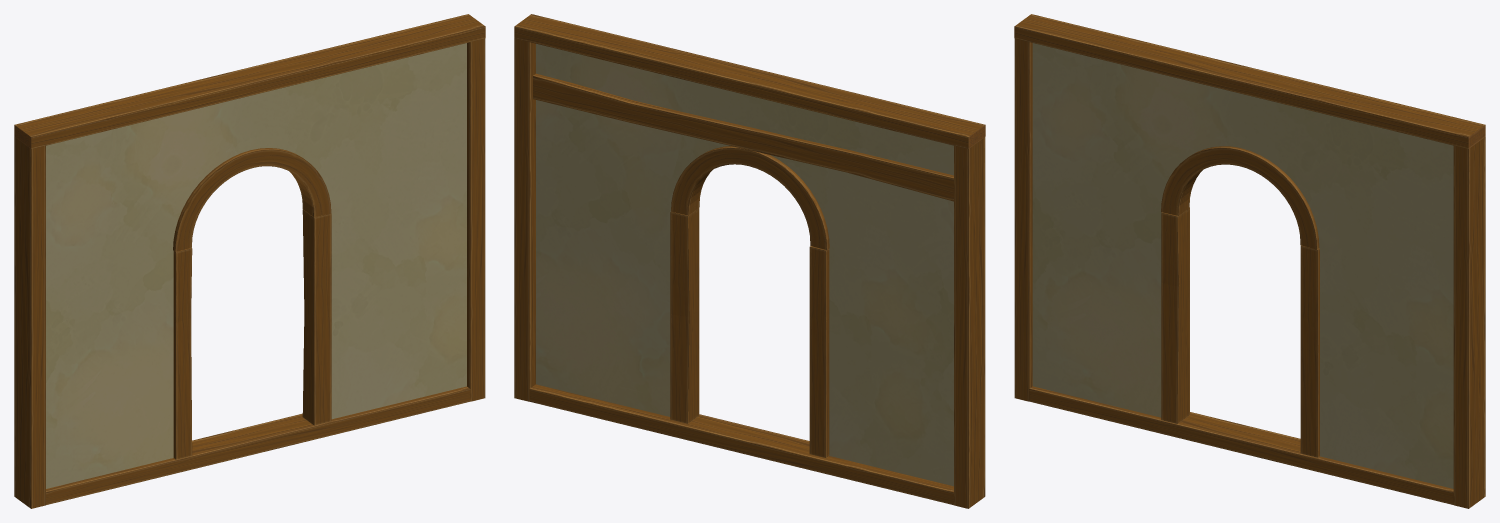
The model's file is SM_House_Wall_5x4_Interior_Door_D_01.fbx.
3 renders of one model, left to right at view 1: azimuth 30°, elevation 25°; view 2: azimuth 150°, elevation 25°; view 3: azimuth 330°, elevation 25°, orthographic.
Parts seen in each view (by area): view 1: SM_House_Wall_5x4_Interior_Door_D_01; view 2: SM_House_Wall_5x4_Interior_Door_D_01; view 3: SM_House_Wall_5x4_Interior_Door_D_01.
Boxes of the visible parts, box(x1,y1,x2,y2) form: SM_House_Wall_5x4_Interior_Door_D_01: box(14, 14, 485, 508); SM_House_Wall_5x4_Interior_Door_D_01: box(514, 14, 985, 508); SM_House_Wall_5x4_Interior_Door_D_01: box(1014, 14, 1485, 508).
Bounding box in the file's own units: 5 × 3.91 × 0.3241.
